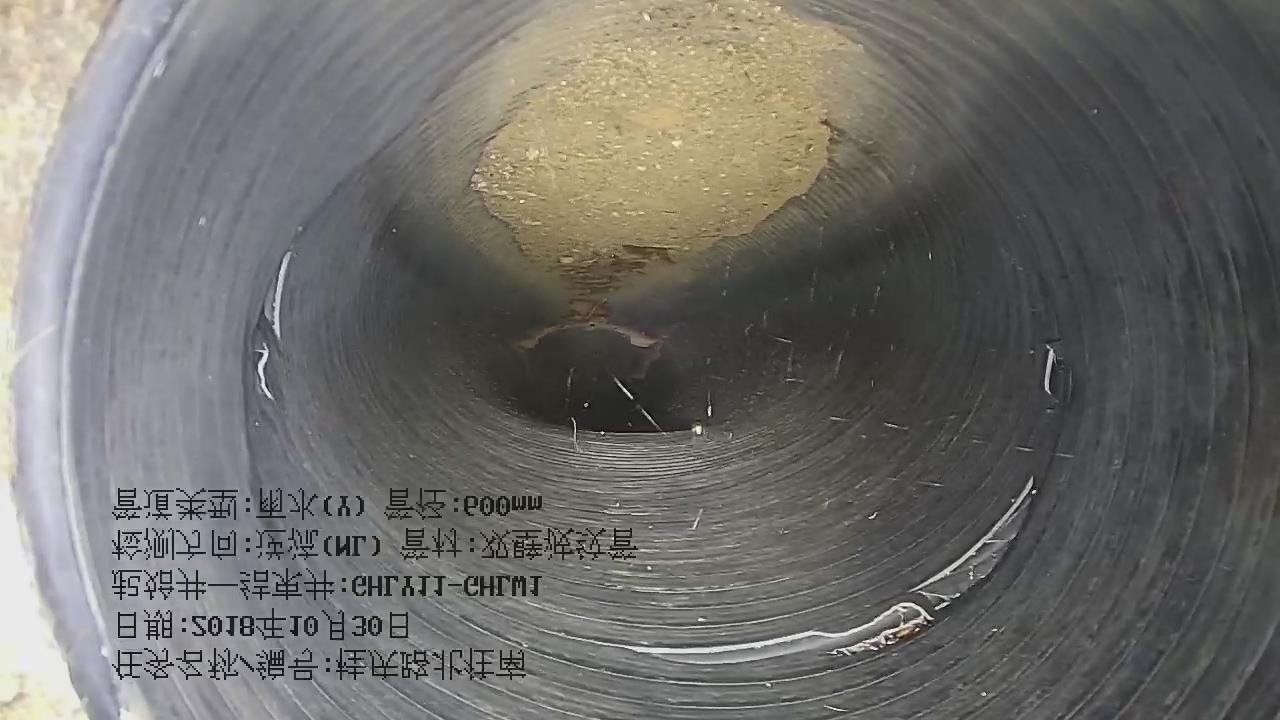CJ: (471, 1, 843, 326)
JKCL: (582, 331, 1085, 675)
